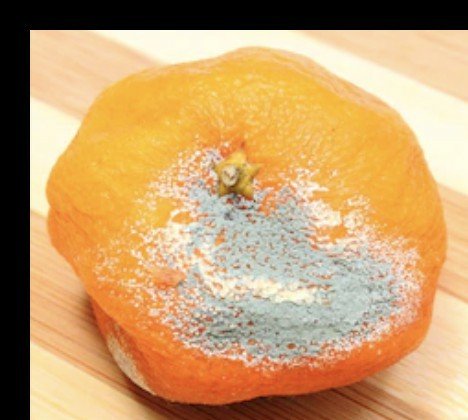rotten_orange: (48, 50, 448, 401)
